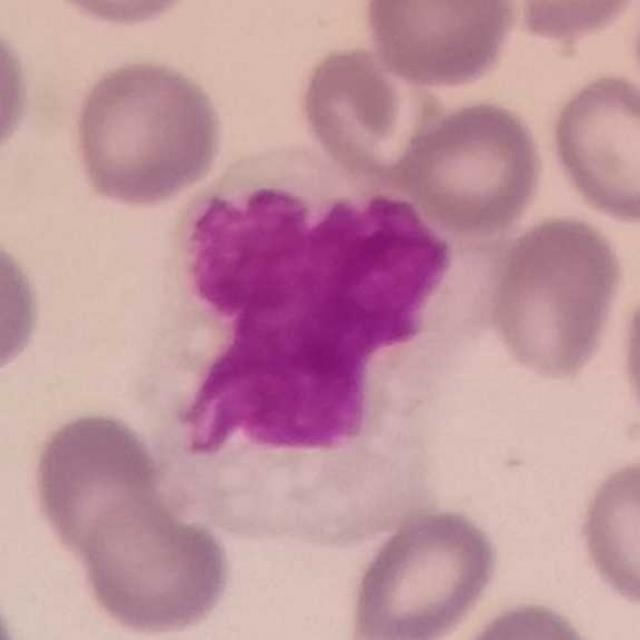Monocyte: (154, 137, 487, 554)
RBC: (154, 379, 418, 552), (69, 484, 236, 640), (484, 210, 629, 385), (66, 54, 227, 210), (24, 406, 167, 563), (342, 502, 504, 640), (392, 95, 549, 237), (293, 39, 413, 187), (544, 69, 640, 228), (359, 0, 521, 90), (572, 451, 640, 613), (447, 596, 611, 640), (0, 226, 47, 377), (487, 0, 638, 43), (0, 10, 36, 174), (33, 0, 205, 30), (625, 0, 640, 114)
